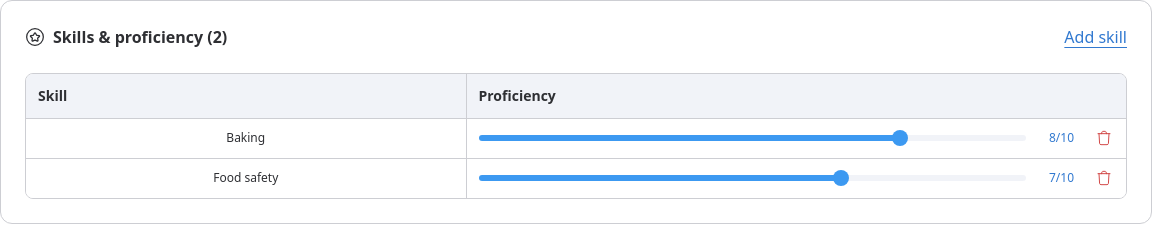
Test: SkillsCard › changes and removes skills in the draft while editing
Set the slider named "Proficiency in Baking" to "3" at (605,138), box [478,135,1026,141]
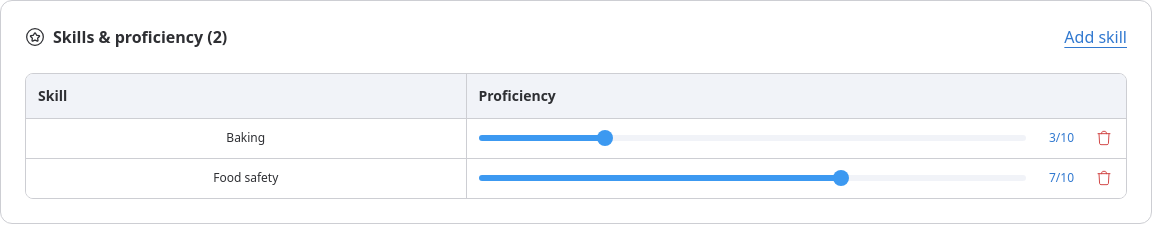
Click the button named "Remove Food safety" at (1104,178), box [1086,160,1122,196]
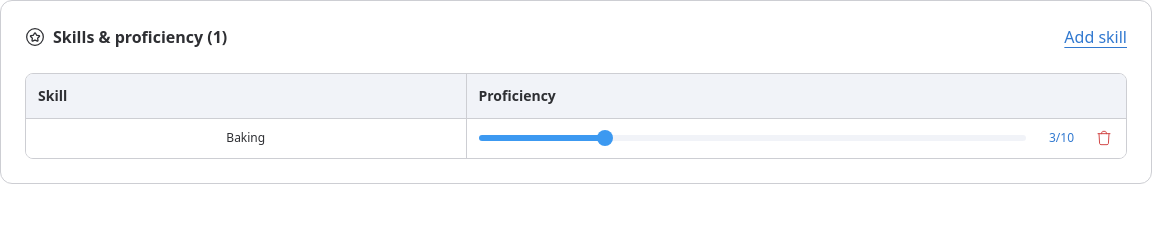
Now the text "3/10" is shown, box [1049,129,1074,146]
Now the element "Skills & proficiency (1)" is shown
